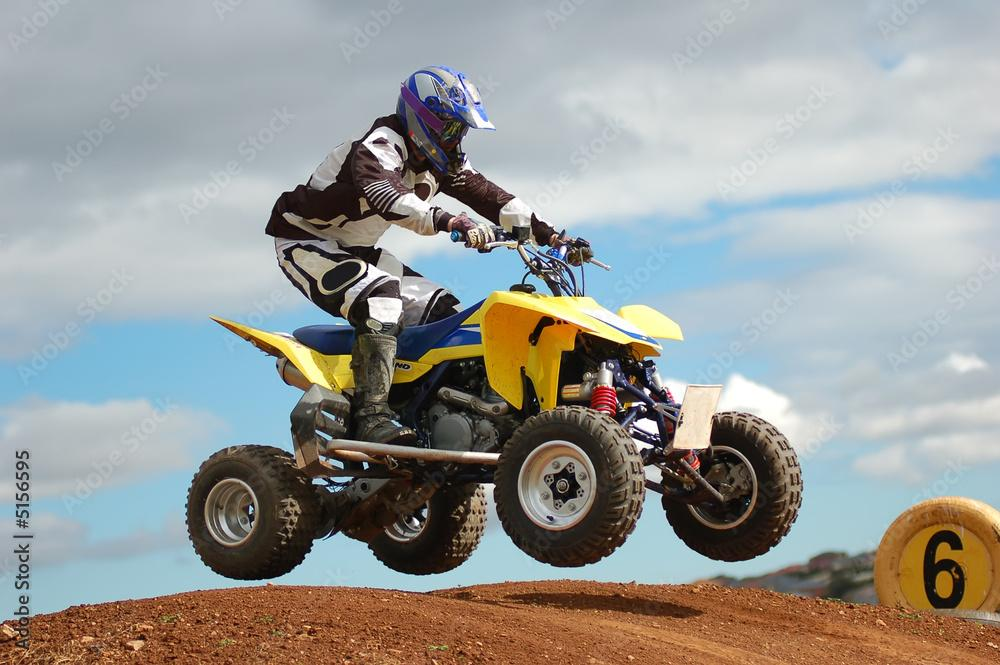helmet: (395, 64, 497, 179)
